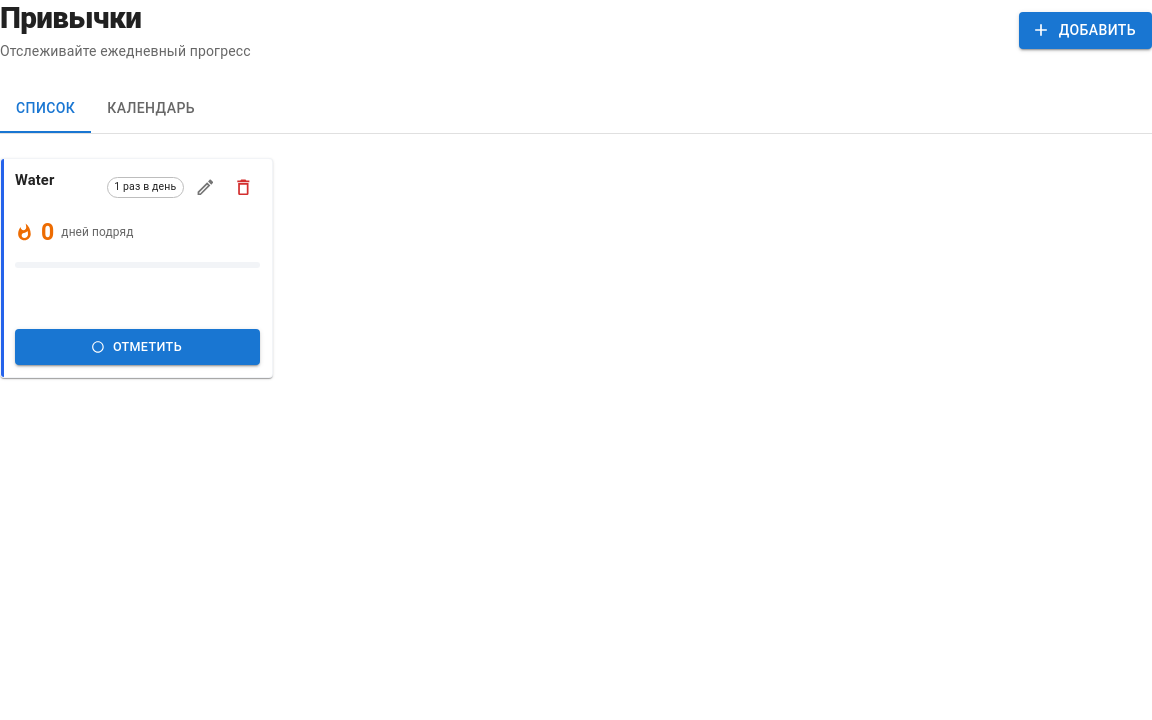
Test: Habits page buttons › opens add dialog
expect the text "Water" is shown: met, box left=15, top=171, right=54, bottom=189
Click the button "Добавить".
click(1085, 30)  # box left=1019, top=12, right=1151, bottom=48
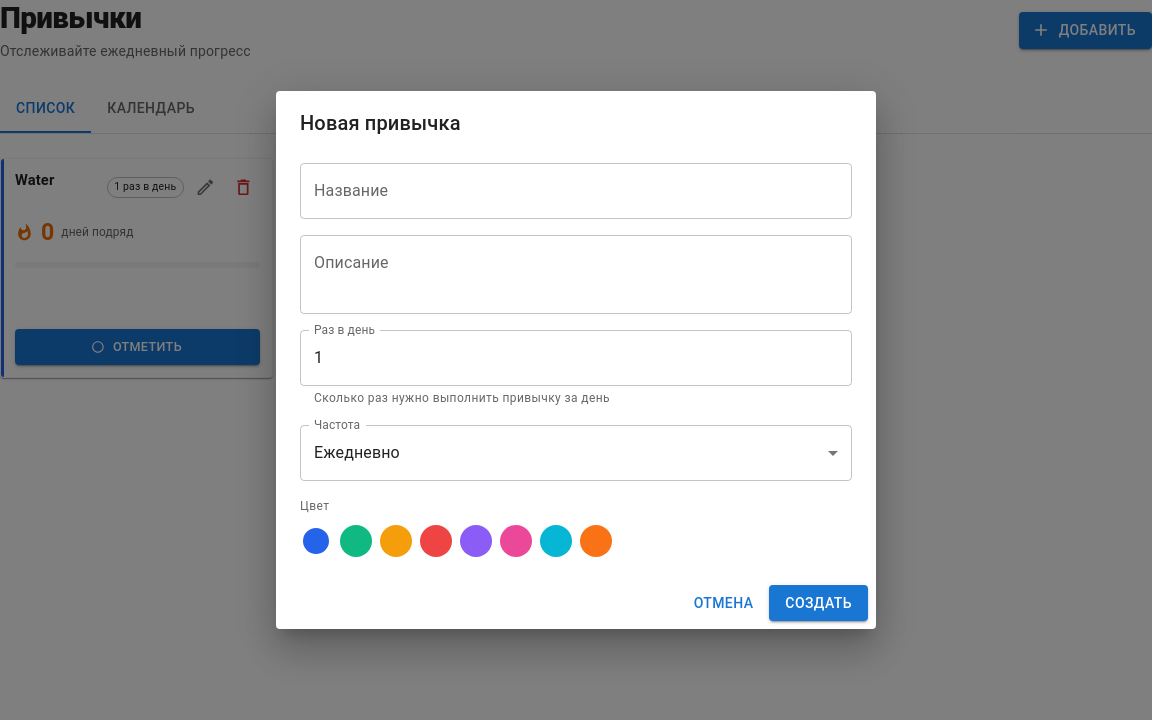
expect the button "Создать" is shown: met, box left=769, top=585, right=868, bottom=621
